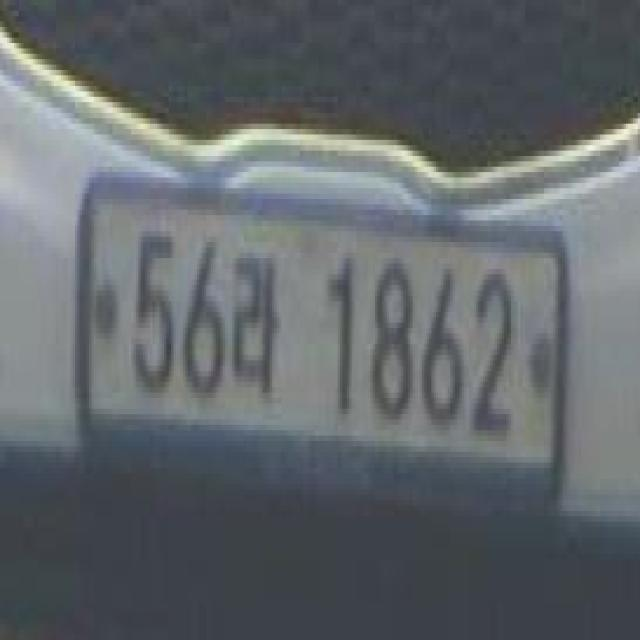illegal_plate: (82, 170, 569, 513)
